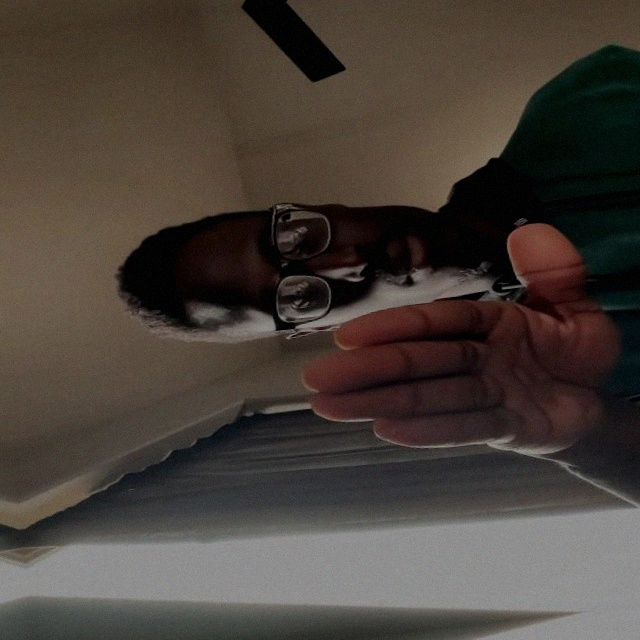Paper: (288, 215, 634, 479)
